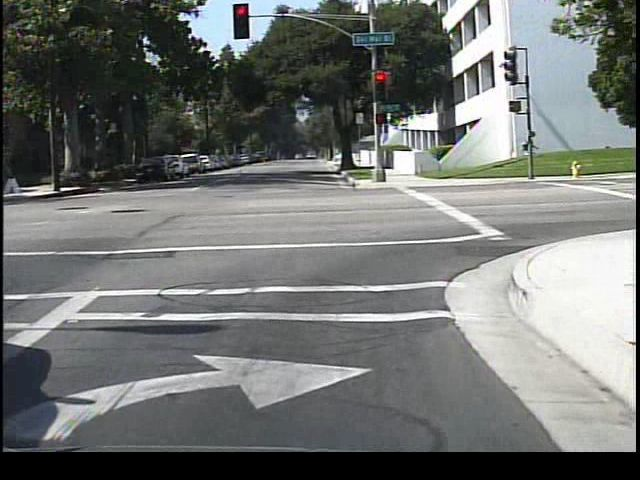person: (514, 127, 538, 175)
